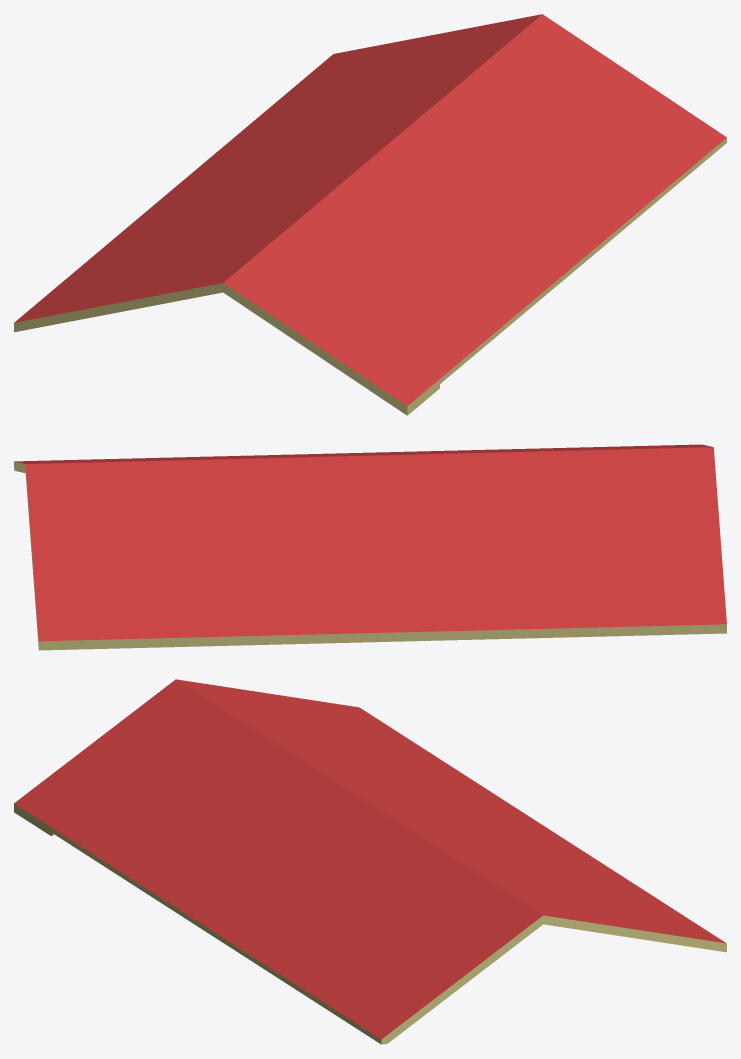
The picture shows the model from 3 angles, top to bottom: view 1: azimuth 30°, elevation 25°; view 2: azimuth 150°, elevation 25°; view 3: azimuth 270°, elevation 25°; orthographic projection. The views are drawn at different scales.
Size of the model in its own units: 7.97 by 7.23 by 0.985.
